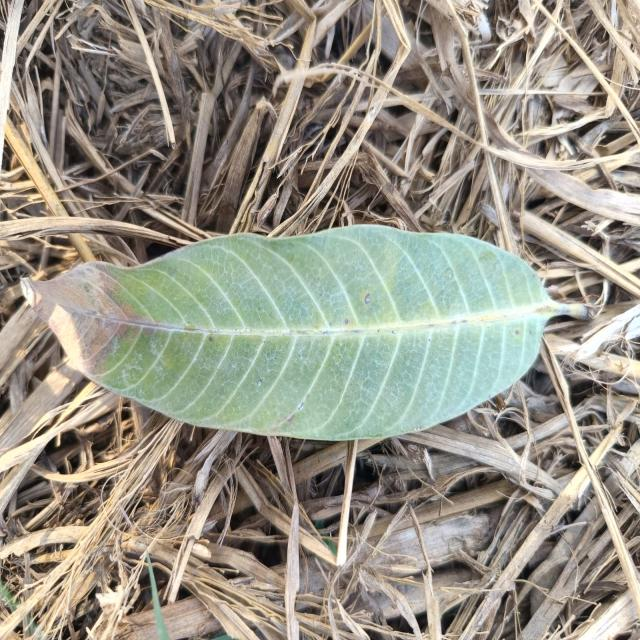Bacterial Cancer: (29, 272, 134, 364)
